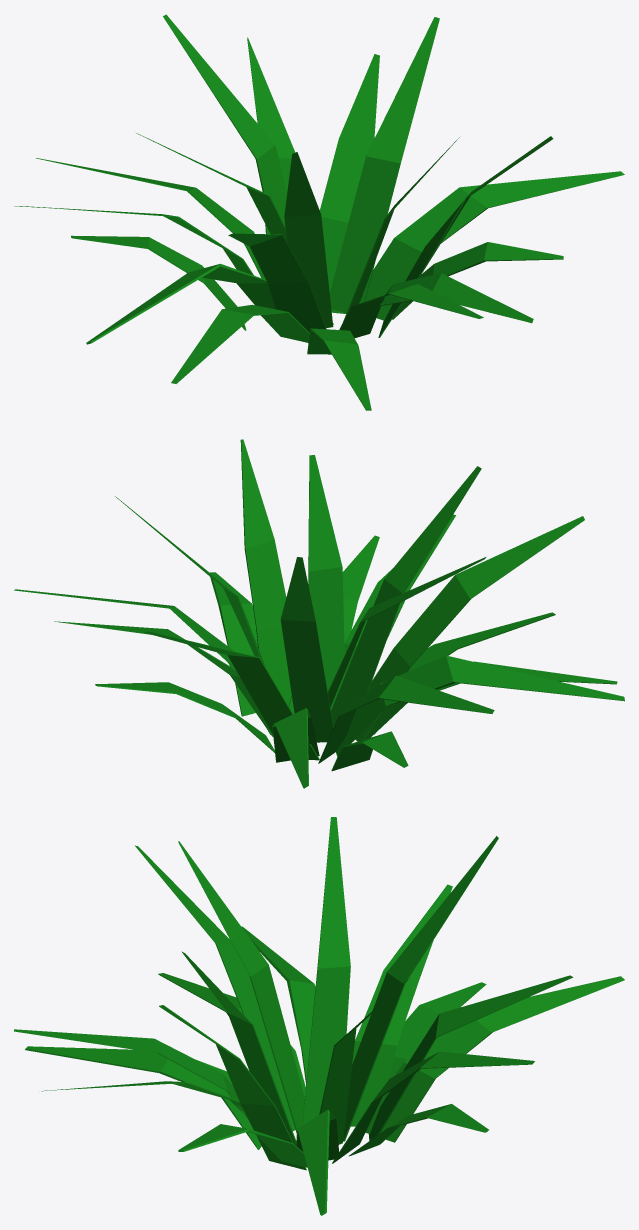
File: grass.fbx
The picture shows the model from 3 angles, top to bottom: view 1: azimuth 30°, elevation 25°; view 2: azimuth 150°, elevation 25°; view 3: azimuth 270°, elevation 25°; orthographic projection. The views are drawn at different scales.
Visible parts, largest first — view 1: Plane.001; view 2: Plane.001; view 3: Plane.001.
Boxes of the visible parts, x1=… form: Plane.001: x1=14, y1=14, x2=624, y2=410; Plane.001: x1=14, y1=439, x2=624, y2=788; Plane.001: x1=14, y1=817, x2=624, y2=1215.
Bounding box in the file's own units: 616 × 278 × 552.
